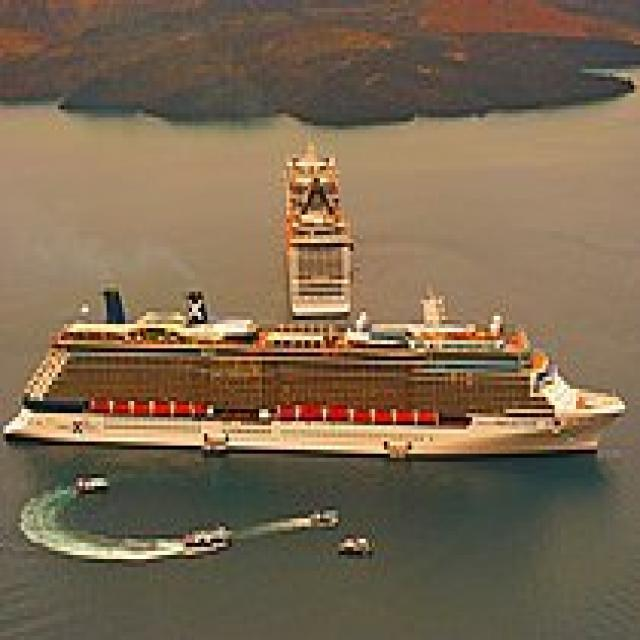Ship: (4, 289, 640, 488)
